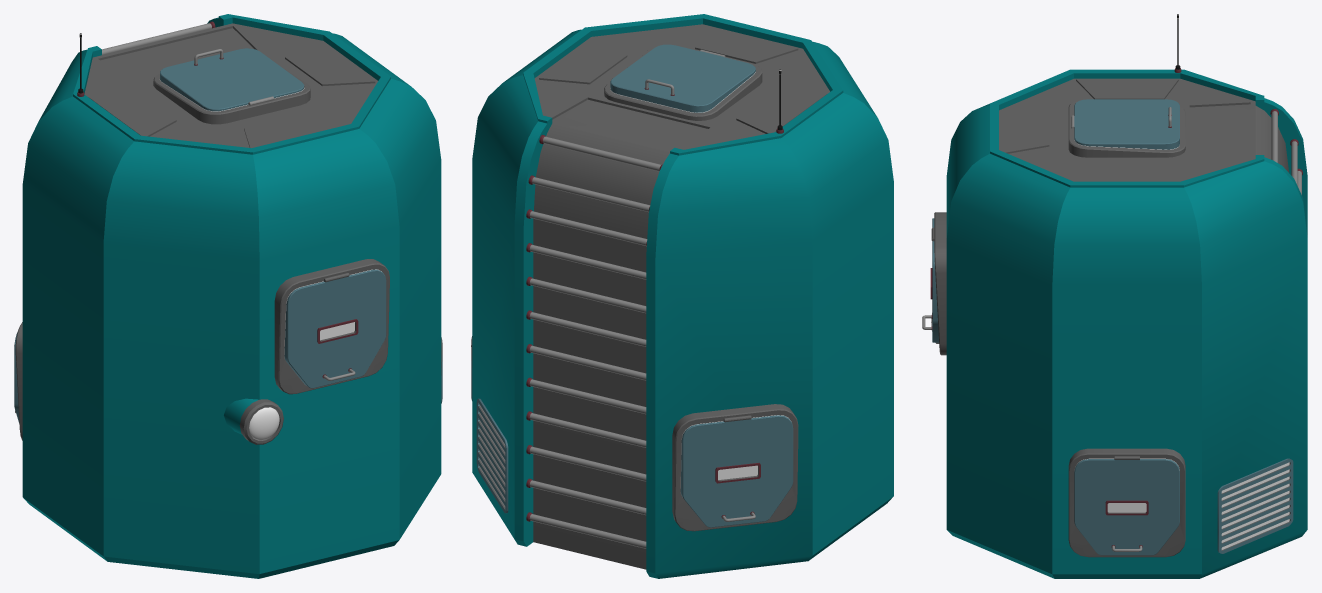
Rendered from tank_head.fbx.
3 views of the same model, side by side, from view 1: azimuth 30°, elevation 25°; view 2: azimuth 150°, elevation 25°; view 3: azimuth 270°, elevation 25° (orthographic). The views are drawn at different scales.
Visible parts, largest first — view 1: head, Front hatch, Top hatch, Lamp, Right hatch, Ladder; view 2: head, Right hatch, Ladder, Top hatch, Vent; view 3: head, Left hatch, Top hatch, Vent, Front hatch, Ladder.
Part boxes in pixels (x1,y1,x2,y2): head: (22,14,441,578); Front hatch: (274,259,389,394); Top hatch: (153,48,310,124); Lamp: (224,398,283,444); Right hatch: (14,322,22,440); Ladder: (102,21,215,54); head: (472,14,893,578); Right hatch: (672,404,798,531); Ladder: (526,134,662,548); Top hatch: (604,44,762,120); Vent: (476,398,508,513); head: (946,69,1307,578); Left hatch: (1068,448,1185,557); Top hatch: (1068,99,1185,157); Vent: (1217,458,1293,553); Front hatch: (922,212,946,355); Ladder: (1270,109,1302,194).
Size of the model in its own units: 1.97 by 2.46 by 1.97.
